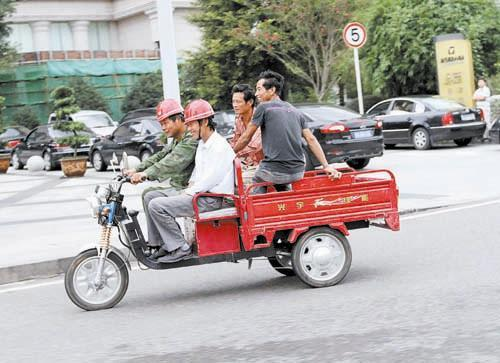driver: (103, 95, 186, 193)
overloading: (62, 73, 404, 321)
passenger: (252, 73, 341, 197), (180, 102, 246, 234), (221, 77, 256, 162)
